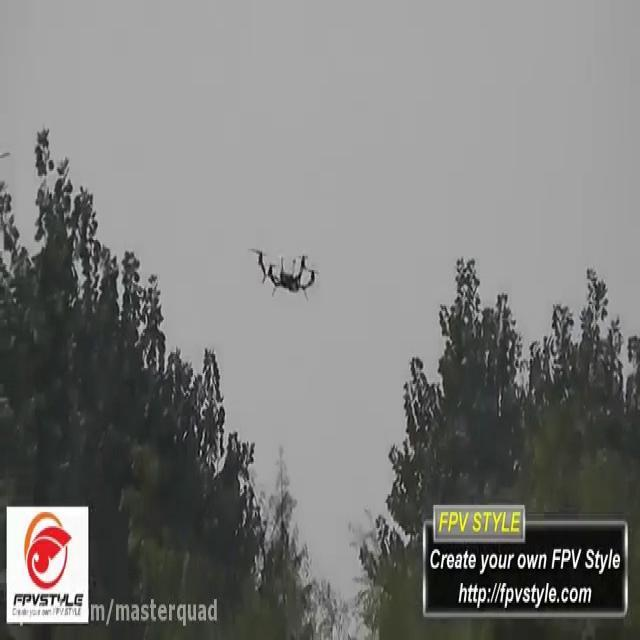drone: (242, 240, 322, 304)
